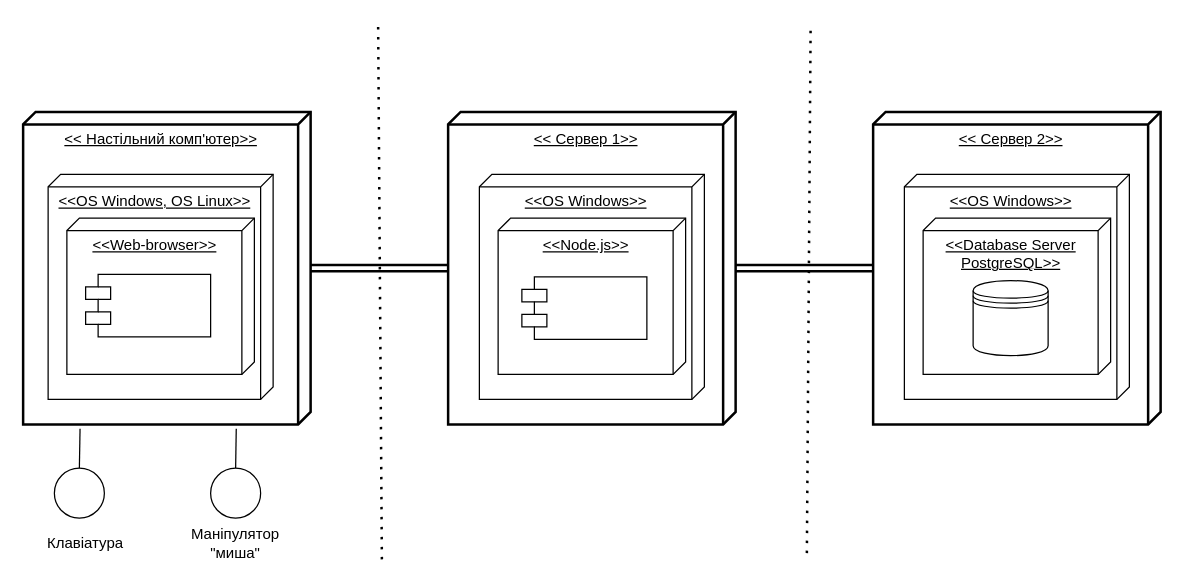
Image size: 1183x583. Some labels were removed from this diagram. Here are the shapes that lost their labels. From the top down, the centre of each, then its label:
the point at 147,305: *.js (React)
the point at 584,307: *.js
the point at 1010,317: Relation DateDase
